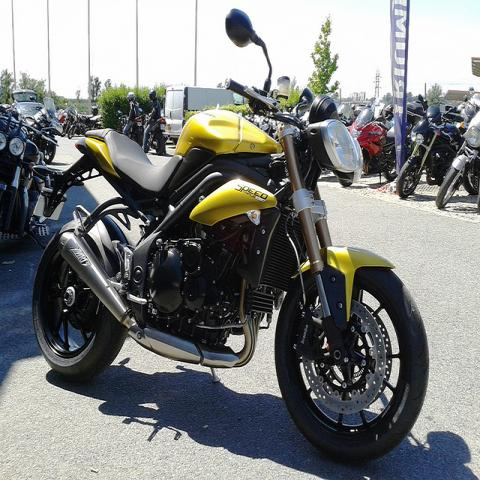car: (10, 88, 46, 125)
motorcycle: (28, 6, 430, 465), (393, 93, 469, 198), (1, 118, 63, 245), (434, 87, 480, 215), (348, 107, 397, 183), (382, 102, 420, 159), (12, 92, 59, 129), (134, 112, 170, 158), (68, 109, 104, 139), (59, 110, 75, 137), (129, 120, 142, 134)
truck: (160, 86, 250, 146)
